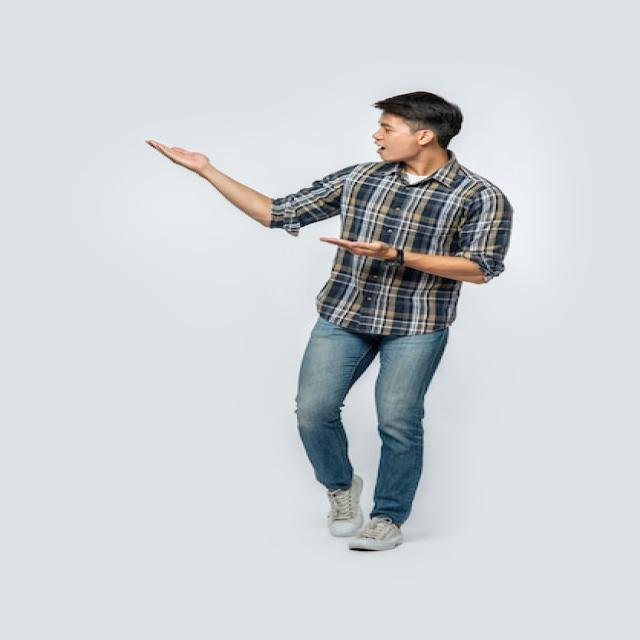Person: (144, 91, 512, 551)
